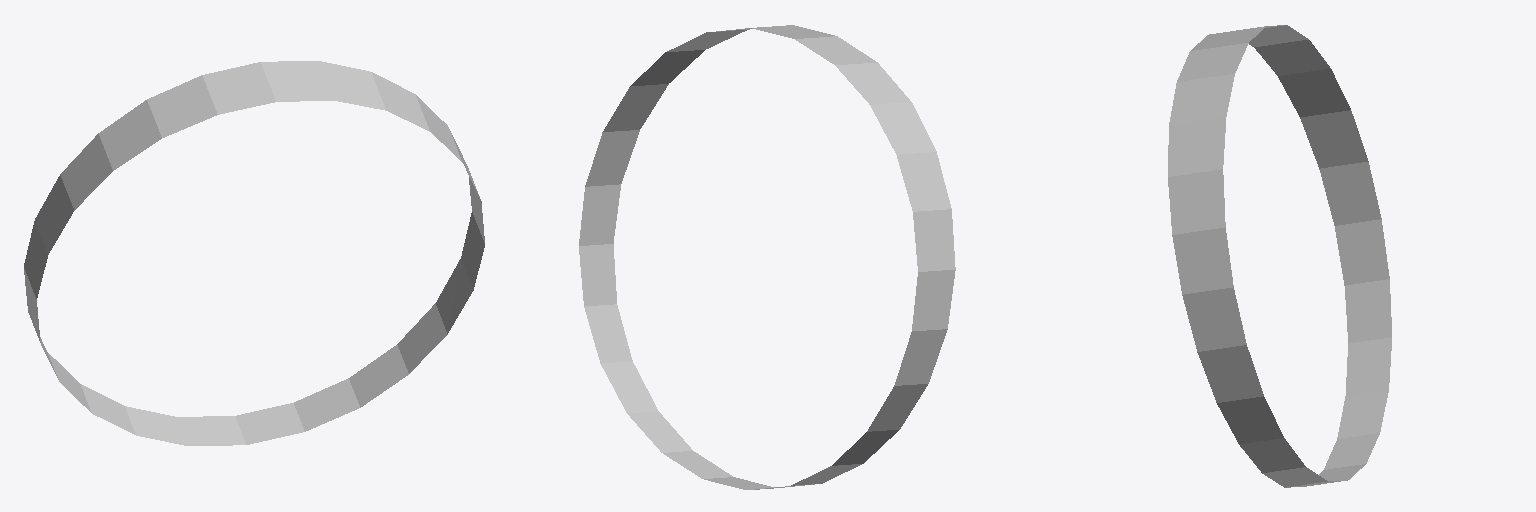
File: original-21.obj
3 renders of one model, left to right at view 1: azimuth 30°, elevation 25°; view 2: azimuth 150°, elevation 25°; view 3: azimuth 270°, elevation 25°, orthographic.
Visible parts, largest first — view 1: #ID103; view 2: #ID103; view 3: #ID103.
Boxes of the visible parts, box(x1,y1,x2,y2) form: #ID103: box(24, 61, 484, 445); #ID103: box(579, 25, 955, 489); #ID103: box(1168, 25, 1391, 487).
Bounding box in the file's own units: 0.0261 × 0.026 × 0.0127.